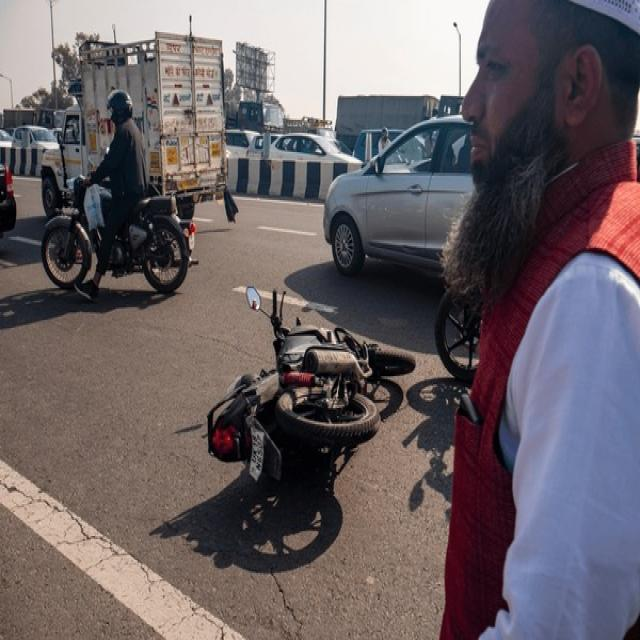accident: (208, 287, 415, 485)
car: (324, 114, 472, 273)
motorcycle: (41, 90, 190, 299)
truck: (41, 32, 226, 218)
